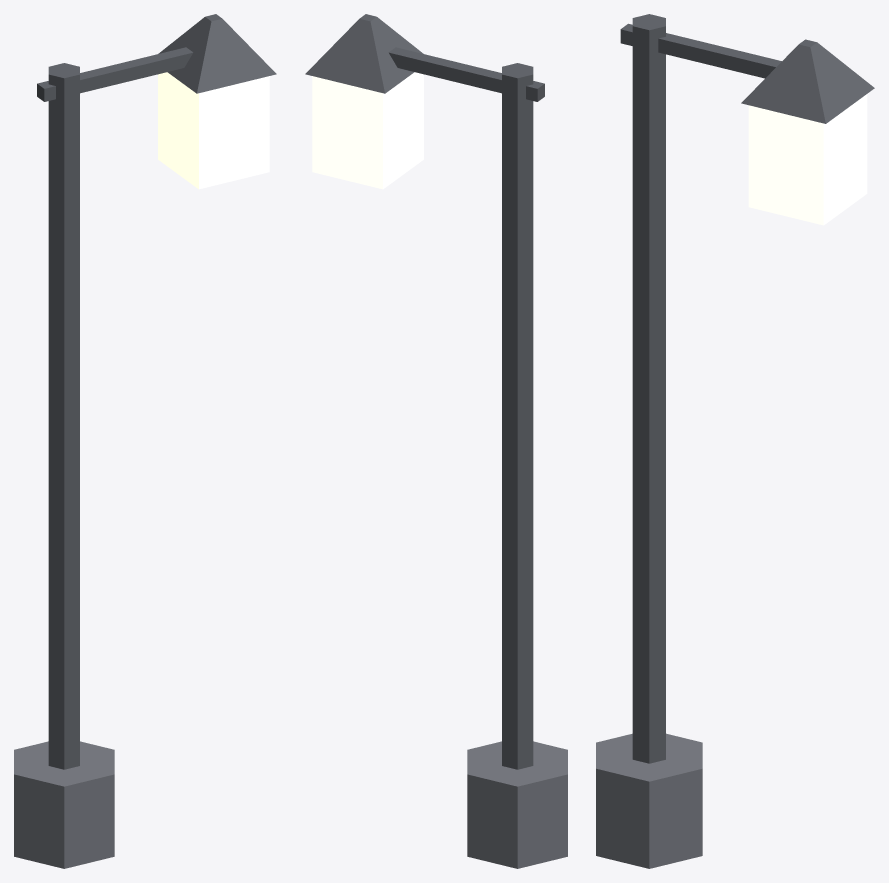
The model's file is lamp_post.glb.
3 renders of one model, left to right at view 1: azimuth 30°, elevation 25°; view 2: azimuth 150°, elevation 25°; view 3: azimuth 330°, elevation 25°, orthographic. The views are drawn at different scales.
Parts seen in each view (by area): view 1: lamp_post; view 2: lamp_post; view 3: lamp_post.
Boxes of the visible parts, bbox=[...] form: lamp_post: bbox=[14, 14, 276, 868]; lamp_post: bbox=[305, 14, 567, 868]; lamp_post: bbox=[596, 14, 874, 868].
Bounding box in the file's own units: 1.52 × 4.8 × 0.5543.
